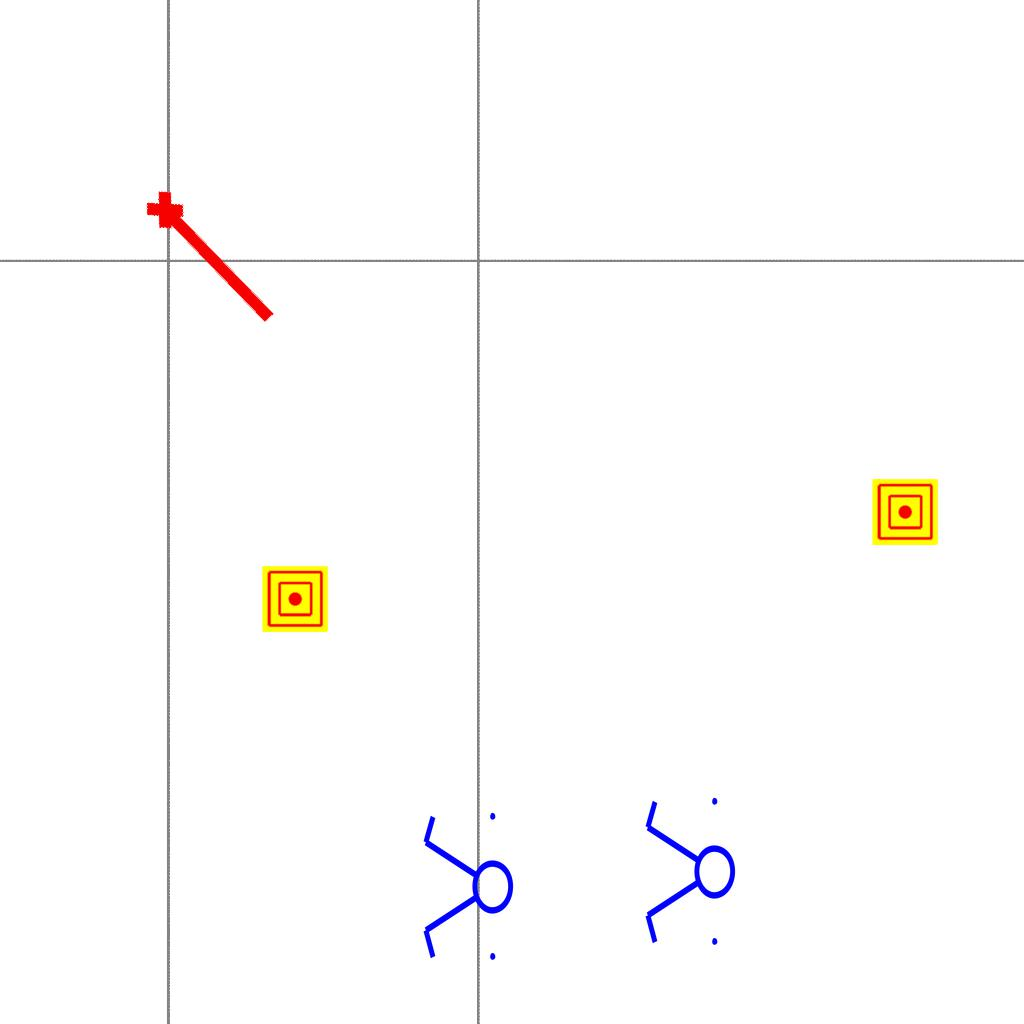ASR_Ansaugoeffnung: (136, 177, 292, 337)
NAM-Nichtautomatischer_Melder: (872, 479, 938, 545), (262, 566, 328, 632)
Serienschalter: (419, 804, 515, 972), (641, 789, 737, 957)
